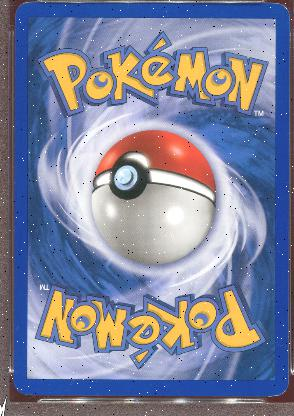Card: (12, 0, 291, 399)
Corner Wear: (265, 388, 286, 398), (265, 1, 285, 9), (18, 0, 34, 6)
Edge Wear: (287, 130, 288, 154)
Scratch: (272, 339, 285, 347), (69, 379, 74, 385)
